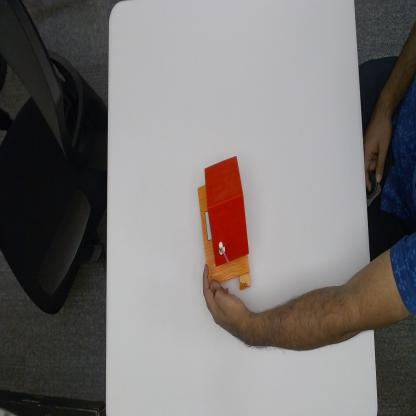Arm: (256, 258, 372, 358)
Hand: (202, 264, 254, 348)
House: (197, 157, 254, 277)
